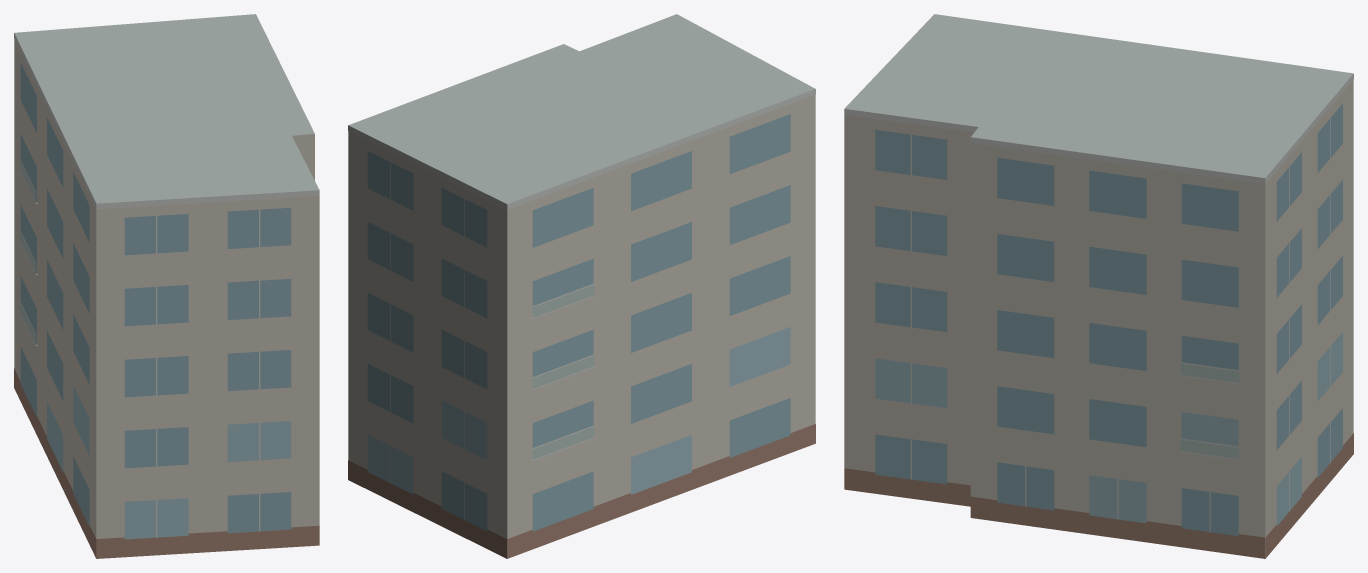
The model's file is survey-upis-32888278.glb.
The picture shows the model from 3 angles, left to right: view 1: azimuth 30°, elevation 25°; view 2: azimuth 150°, elevation 25°; view 3: azimuth 270°, elevation 25°; orthographic projection. The views are drawn at different scales.
Visible parts, largest first — view 1: survey-upis-32888278.tmp; view 2: survey-upis-32888278.tmp; view 3: survey-upis-32888278.tmp.
Part boxes in pixels (box(x1,y1,x2,y2)): survey-upis-32888278.tmp: box(14, 14, 319, 558); survey-upis-32888278.tmp: box(348, 14, 815, 558); survey-upis-32888278.tmp: box(844, 14, 1353, 558).
Size of the model in its own units: 14.3 by 15.45 by 18.75.
